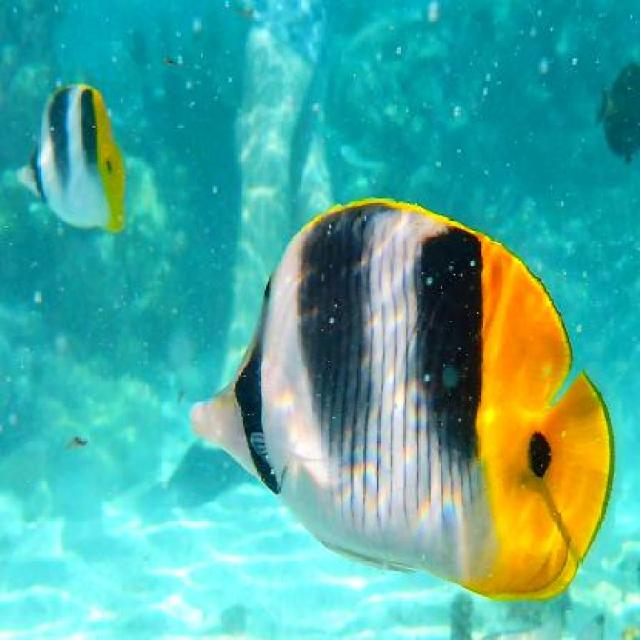ButterflyFish: (188, 198, 610, 600), (15, 85, 125, 237)
